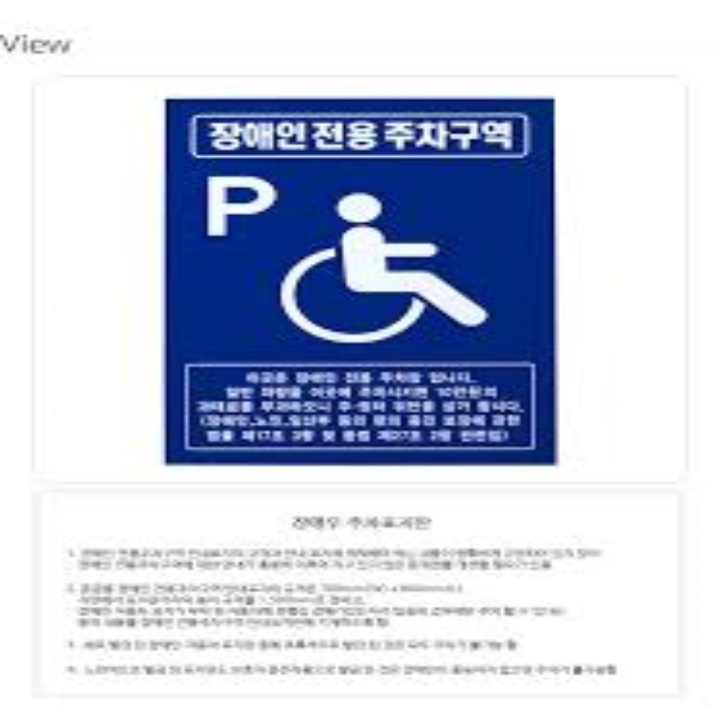parking: (199, 172, 285, 246)
